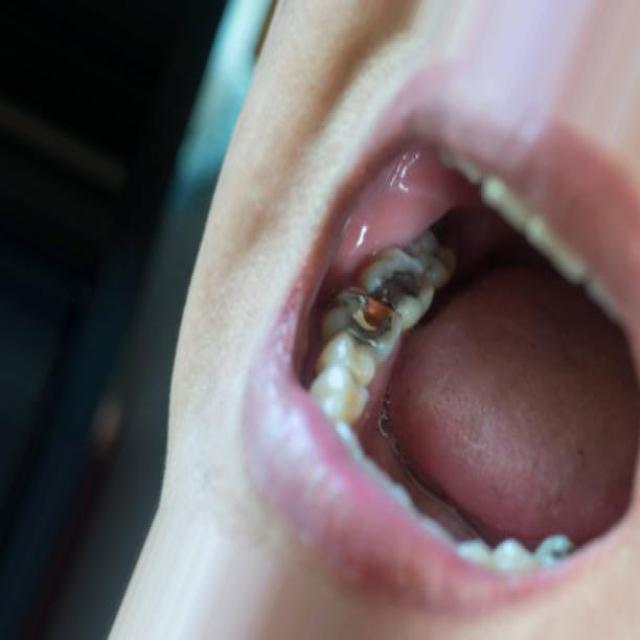caries: (335, 275, 392, 349), (376, 247, 429, 314)
